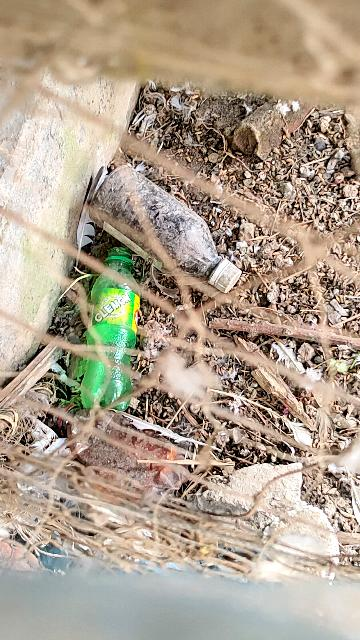bottle: (75, 147, 258, 301), (81, 238, 152, 428)
